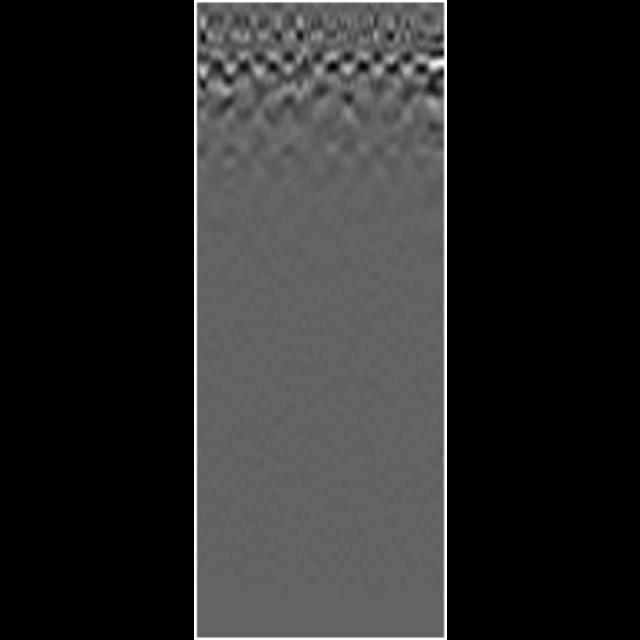hyperbola: (314, 51, 352, 89), (343, 49, 379, 86), (284, 46, 320, 82), (375, 54, 413, 88), (252, 50, 290, 82), (402, 53, 436, 87), (228, 49, 262, 79), (200, 49, 234, 79)
